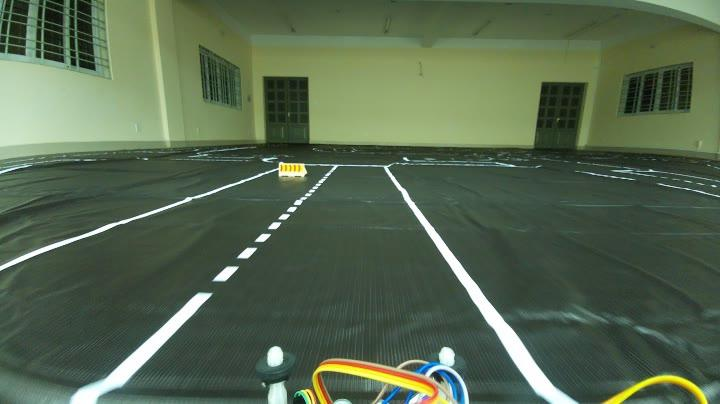roadblock: (269, 158, 318, 185)
